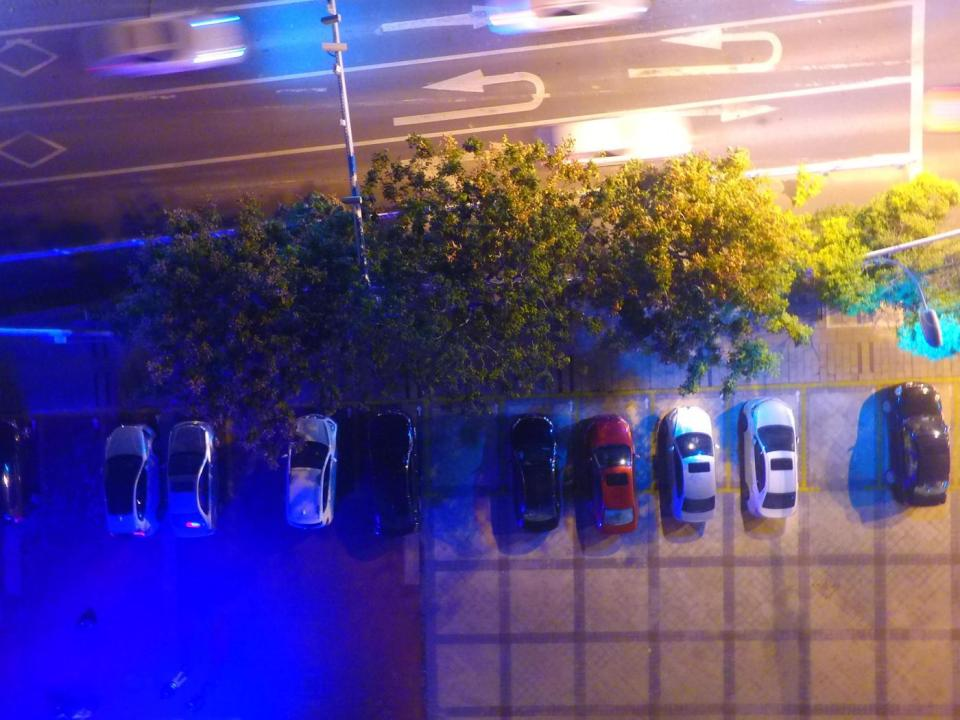car: (78, 9, 248, 82), (882, 380, 950, 507), (368, 408, 422, 542), (100, 421, 160, 541), (742, 396, 799, 521), (166, 418, 222, 537), (662, 404, 718, 523), (585, 414, 639, 536), (509, 414, 561, 534), (286, 413, 337, 531)
